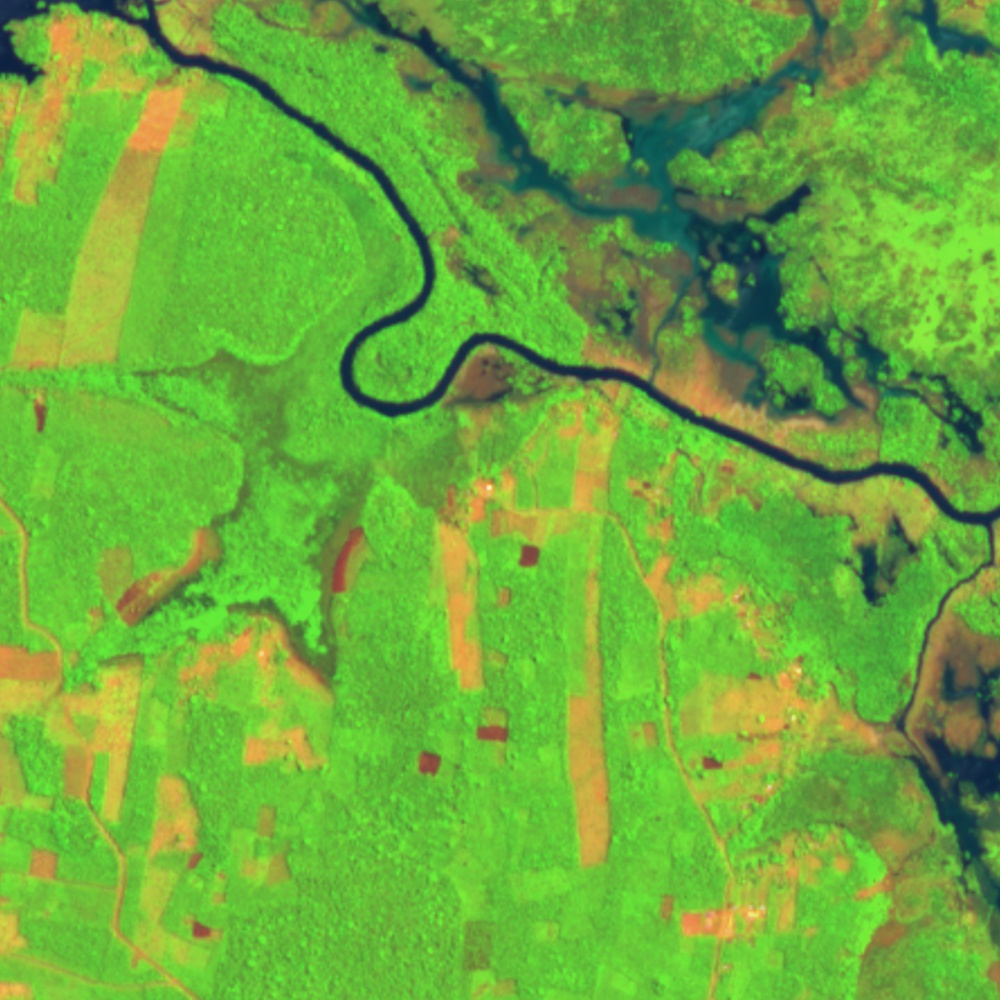legal: (638, 500, 948, 939), (1, 639, 309, 1000), (537, 187, 896, 452), (1, 1, 240, 371), (105, 483, 378, 771), (431, 379, 637, 700), (330, 1, 542, 228), (530, 69, 828, 175), (561, 529, 615, 869), (11, 383, 173, 455), (412, 707, 514, 784), (454, 914, 530, 1000), (635, 714, 667, 751)
